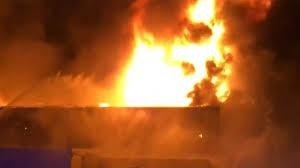fire: (111, 0, 237, 109)
